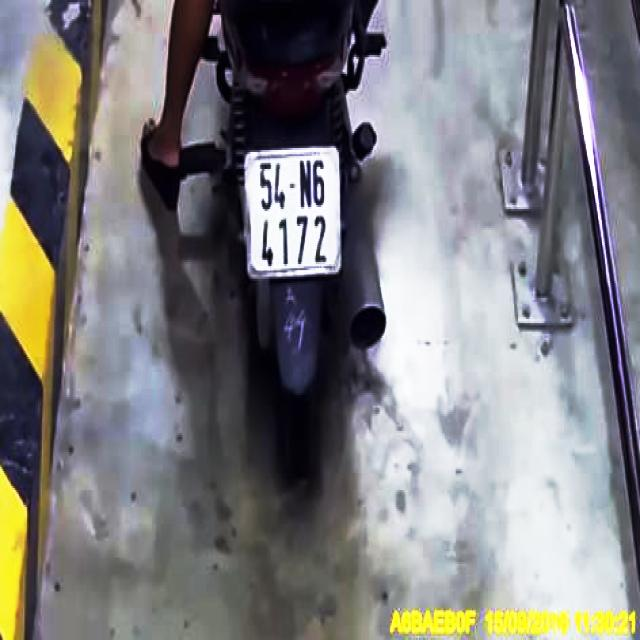license_plate: (246, 150, 345, 280)
